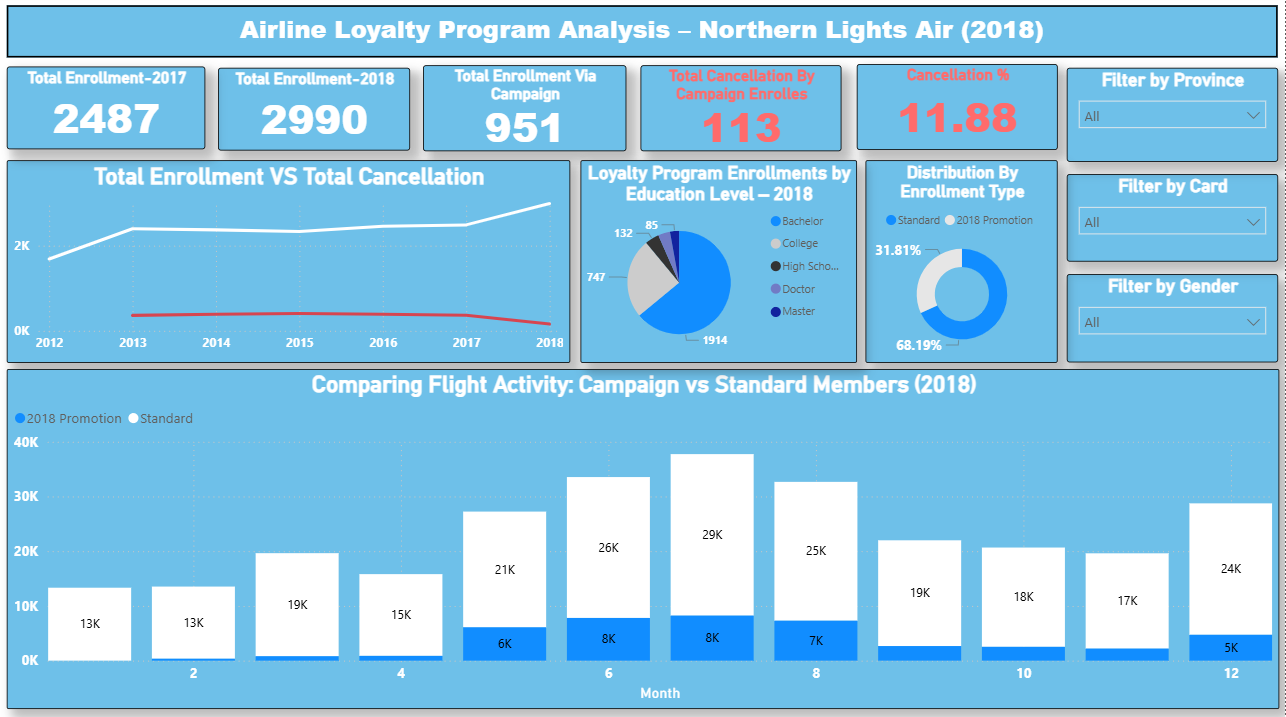

This screenshot's page, from the dashboard's own definition file:
{"tool":"powerbi","page":{"name":"Page 1","canvas":[1280,720],"ordinal":0},"visuals":[{"type":"card","title":"Total Enrollment-2018","fields":{"Values":["Cleaned Customer Loyalty History.Total enroll 2018"]},"box":[218.9,73.4,191.6,82.1],"z":0},{"type":"card","title":"Total Enrollment Via Campaign","fields":{"Values":["Customer Loyalty History.Enroll through campaign"]},"box":[422.9,70.9,202.8,85.8],"z":1000},{"type":"card","title":"Total Cancellation By Campaign Enrolles","fields":{"Values":["Customer Loyalty History.Cancellation after enrolling via campaign"]},"box":[639.4,70.9,200.3,85.8],"z":2000},{"type":"card","title":"Cancellation %","fields":{"Values":["Customer Loyalty History.Cancellation %"]},"box":[854.6,69.7,200.3,85.8],"z":3000},{"type":"lineChart","title":"Total Enrollment VS Total Cancellation","fields":{"Y":["CountNonNull(Customer Loyalty History.Loyalty_Number)","CountNonNull(Customer Loyalty History.Cancellation_Month)"],"Category":["Customer Loyalty History.Enrollment_Year"]},"box":[8.7,165.4,561,201.5],"z":4000},{"type":"card","title":"Total Enrollment-2017","fields":{"Values":["CountNonNull(Customer Loyalty History.Loyalty_Number)"]},"box":[8.7,72.1,197.8,82.1],"z":5000},{"type":"slicer","title":"Filter by Gender","fields":{"Values":["Customer Loyalty History.Gender"]},"box":[1063.6,278.6,210.2,88.3],"z":6000},{"type":"slicer","title":"Filter by Card","fields":{"Values":["Customer Loyalty History.Loyalty_Card"]},"box":[1063.6,179.1,210.2,87.1],"z":7000},{"type":"slicer","title":"Filter by Province","fields":{"Values":["Customer Loyalty History.Province"]},"box":[1063.6,73.4,210.2,93.3],"z":8000},{"type":"donutChart","title":"Distribution By Enrollment Type","fields":{"Category":["Customer Loyalty History.Enrollment_Type"],"Y":["Customer Loyalty History.Total enroll 2018"]},"box":[863.3,165.4,191.6,201.5],"z":9000},{"type":"columnChart","title":"Comparing Flight Activity: Campaign vs Standard Members (2018)","fields":{"Category":["Customer Flight Activity.Month"],"Y":["Sum(Customer Flight Activity.Total_Flights)"],"Series":["Customer Loyalty History.Enrollment_Type"]},"box":[8.7,373.2,1266.4,338.4],"z":10000},{"type":"pieChart","title":"Loyalty Program Enrollments by Education Level – 2018","fields":{"Y":["Customer Loyalty History.Total enroll 2018"],"Category":["Customer Loyalty History.Education"]},"box":[579.7,165.4,274.9,201.5],"z":11000},{"type":"textbox","box":[8.7,11.2,1265.1,52.2],"z":12000}]}

Visuals, with their boxes in screenshot pixels (x1, y1, x2, y2), scaled from the page's 1280x720 canvas onto the 1286x717 screenshot:
"Total Enrollment-2018" card: box(220, 73, 412, 155)
"Total Enrollment Via Campaign" card: box(425, 71, 629, 156)
"Total Cancellation By Campaign Enrolles" card: box(642, 71, 844, 156)
"Cancellation %" card: box(859, 69, 1060, 155)
"Total Enrollment VS Total Cancellation" lineChart: box(9, 165, 572, 365)
"Total Enrollment-2017" card: box(9, 72, 207, 154)
"Filter by Gender" slicer: box(1069, 277, 1280, 365)
"Filter by Card" slicer: box(1069, 178, 1280, 265)
"Filter by Province" slicer: box(1069, 73, 1280, 166)
"Distribution By Enrollment Type" donutChart: box(867, 165, 1060, 365)
"Comparing Flight Activity: Campaign vs Standard Members (2018)" columnChart: box(9, 372, 1281, 709)
"Loyalty Program Enrollments by Education Level – 2018" pieChart: box(582, 165, 859, 365)
textbox: box(9, 11, 1280, 63)
